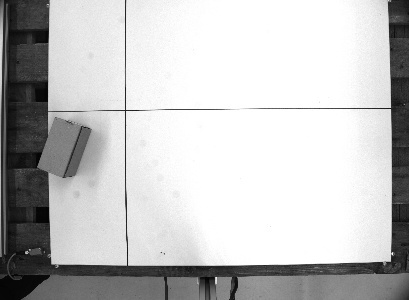b2: (34, 114, 96, 182)
